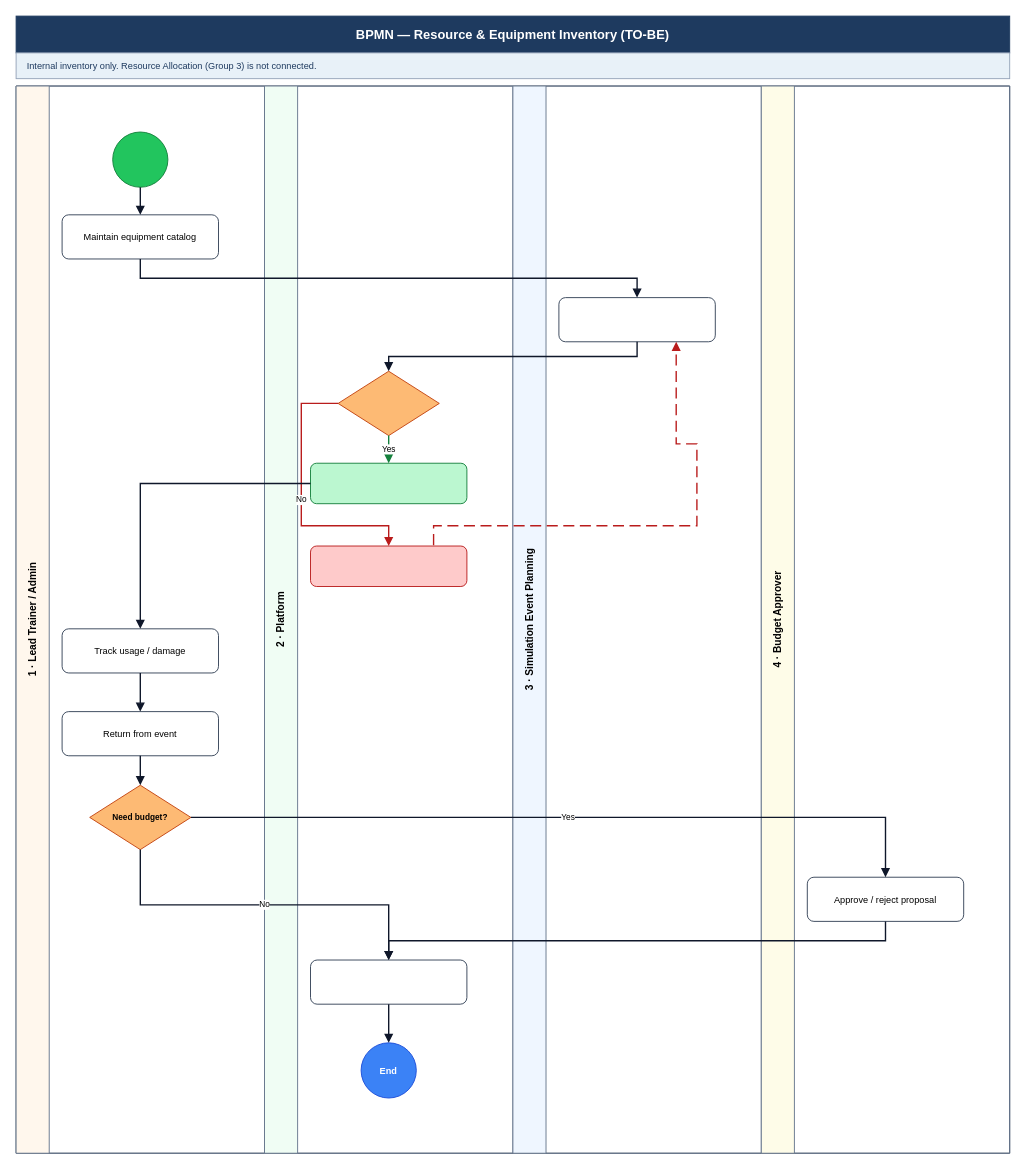
The diagram is 1026 pixels wide and 1169 high, and some of its shapes have lost their labels. Here are the shapes that lost their labels. From the top down, the centre of each, then its label:
At point 140,159: "Start".
At point 636,319: "Request equipment for event".
At point 388,403: "Stock OK?".
At point 388,483: "Assign to event".
At point 388,565: "Hold / find substitute".
At point 388,981: "Restock catalog".
